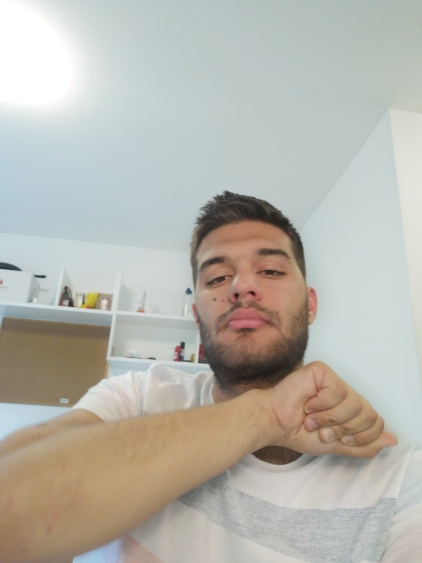A: (273, 358, 402, 467)
